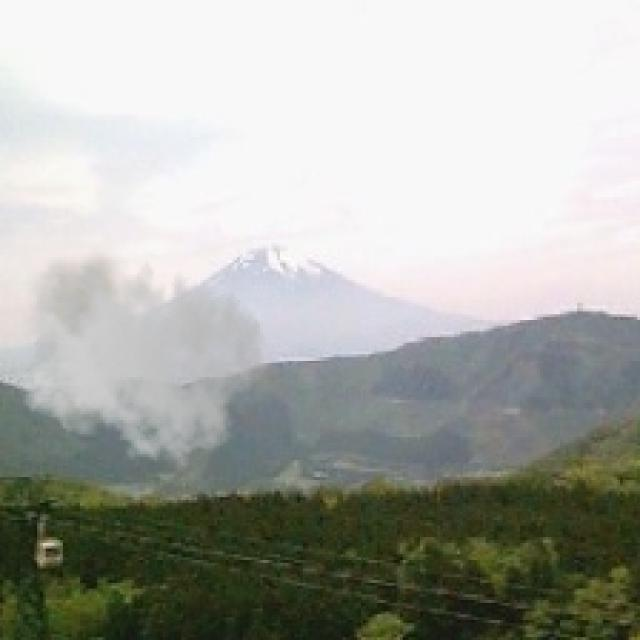smoke: (14, 246, 266, 468)
